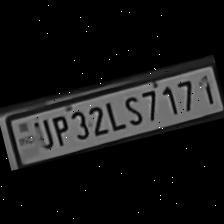1: (192, 70, 218, 108), (156, 82, 180, 118)
2: (83, 100, 109, 138)
3: (65, 106, 90, 142)
7: (171, 76, 199, 114), (138, 86, 162, 122)
L: (100, 96, 126, 132)
P: (46, 111, 72, 148)
S: (118, 90, 146, 128)
U: (29, 116, 53, 152)
